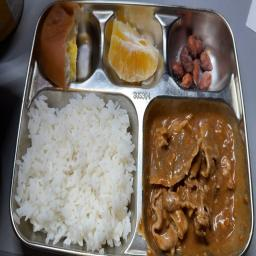100_beef: (146, 103, 242, 253)
100_orange: (104, 7, 162, 86)
100_rice: (22, 87, 134, 248)
50_bread: (39, 2, 98, 88)
50_nuts: (168, 23, 224, 92)
